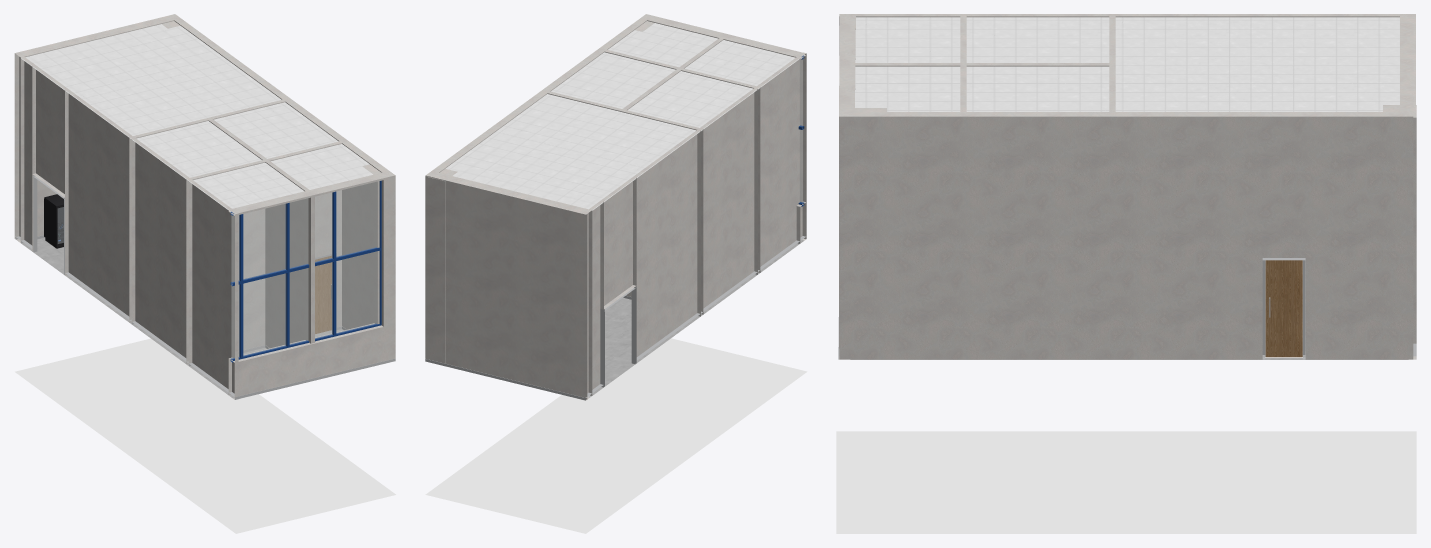
Rendered from disimpegno.glb.
The picture shows the model from 3 angles, left to right: view 1: azimuth 30°, elevation 25°; view 2: azimuth 150°, elevation 25°; view 3: azimuth 270°, elevation 25°; orthographic projection. The views are drawn at different scales.
Parts seen in each view (by area): view 1: BAKE_statico, Vetri.001, Anta14; view 2: BAKE_statico; view 3: BAKE_statico, Anta10.
Boxes of the visible parts, x1=… form: BAKE_statico: x1=14, y1=14, x2=395, y2=533; Vetri.001: x1=231, y1=182, x2=377, y2=360; Anta14: x1=315, y1=255, x2=331, y2=333; BAKE_statico: x1=425, y1=14, x2=807, y2=533; BAKE_statico: x1=836, y1=14, x2=1416, y2=533; Anta10: x1=1265, y1=260, x2=1302, y2=357.
Size of the model in its own units: 4.54 by 8.62 by 10.86.
20 materials, 5 textured.
